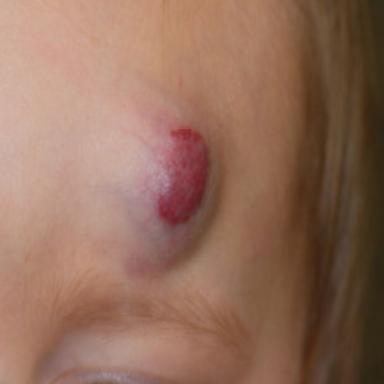Hemangiome: (158, 128, 208, 225)
